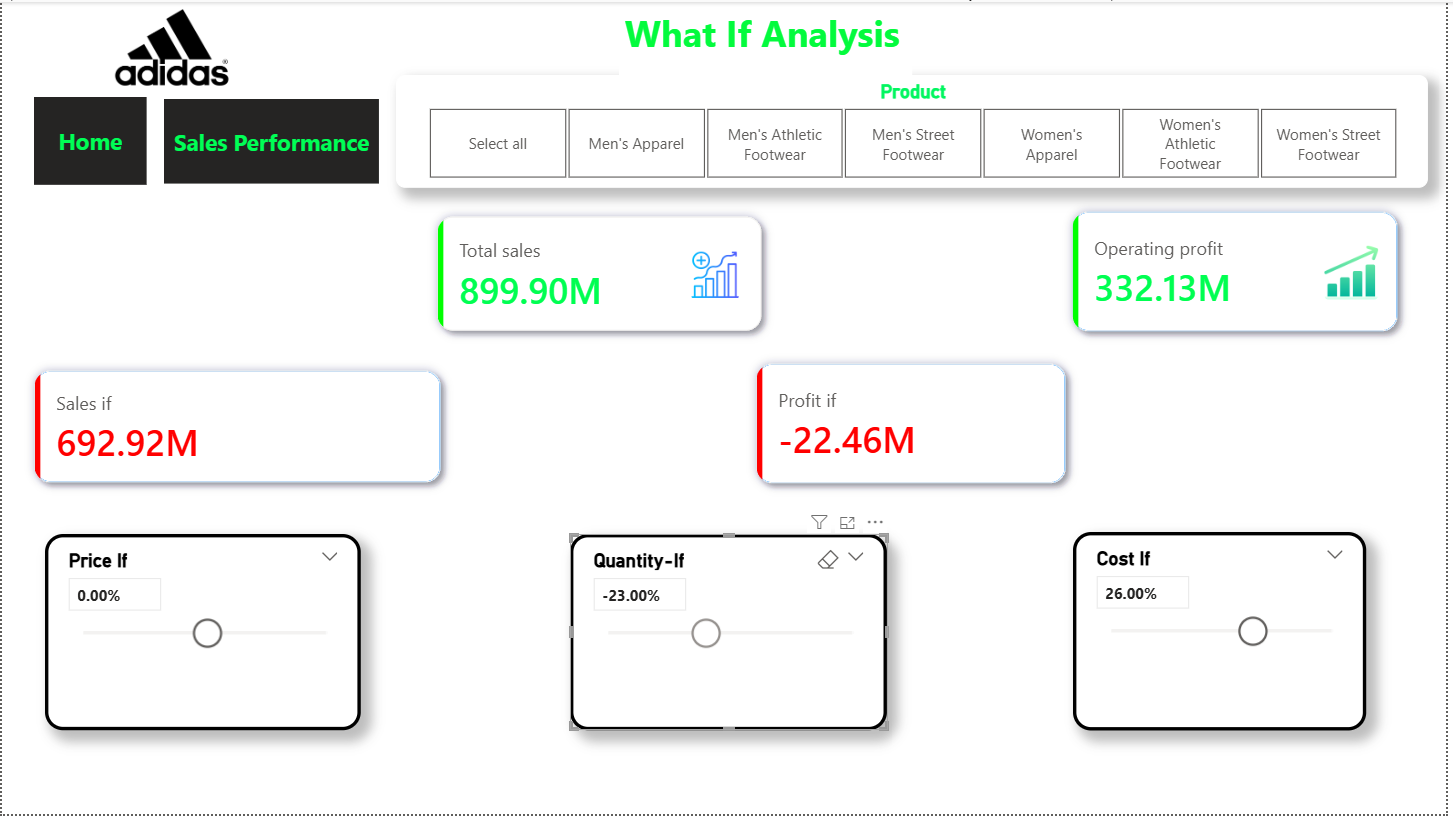

What the dashboard file says about the page in this screenshot:
{"tool":"powerbi","page":{"name":"What if analysis","canvas":[1280,720],"ordinal":3},"visuals":[{"type":"slicer","fields":{"Values":["Price If.Price If"]},"box":[38.5,471.9,280.4,174.1],"z":0},{"type":"slicer","fields":{"Values":["Quantity-If.Quantity-If"]},"box":[503.9,471.9,281.3,174.1],"z":1000},{"type":"cardVisual","title":"Total sales","fields":{"Data":["Data.Sales if"]},"box":[0,297.8,418.7,157.6],"z":2000},{"type":"cardVisual","title":"Total sales","fields":{"Data":["Sum(Data.Total Sales)"]},"box":[357.3,161.3,345.4,159.4],"z":3000},{"type":"cardVisual","fields":{"Data":["Sum(Data.Operating Profit)"]},"box":[920.8,156.7,346.3,164],"z":4000},{"type":"cardVisual","fields":{"Data":["Cost If.Profit if"]},"box":[640.5,291.4,332.6,164],"z":5000},{"type":"slicer","fields":{"Values":["Cost If.Cost If"]},"box":[949.2,470,260.2,175.9],"z":6000},{"type":"actionButton","title":"Home","box":[28.4,84.3,99.9,77.9],"z":7000},{"type":"actionButton","box":[143.9,86.1,190.6,75.1],"z":8000},{"type":"slicer","title":"Product","fields":{"Values":["Data.Product"]},"box":[349.1,65.1,915.3,99.9],"z":9000},{"type":"textbox","box":[547,0,260.2,66.9],"z":10000},{"type":"image","box":[62.3,6.4,176.8,67.8],"z":11000}]}

Visuals, with their boxes in screenshot pixels (x1, y1, x2, y2), scaled from the page's 1280x720 canvas onto the 1453x819 screenshot:
slicer - Price If.Price If: rect(44, 537, 362, 735)
slicer - Quantity-If.Quantity-If: rect(572, 537, 891, 735)
"Total sales" cardVisual: rect(0, 339, 475, 518)
"Total sales" cardVisual: rect(406, 183, 798, 365)
cardVisual - Sum(Data.Operating Profit): rect(1045, 178, 1438, 365)
cardVisual - Cost If.Profit if: rect(727, 331, 1105, 518)
slicer - Cost If.Cost If: rect(1077, 535, 1373, 735)
"Home" actionButton: rect(32, 96, 146, 185)
actionButton: rect(163, 98, 380, 183)
"Product" slicer: rect(396, 74, 1435, 188)
textbox: rect(621, 0, 916, 76)
image: rect(71, 7, 271, 84)
